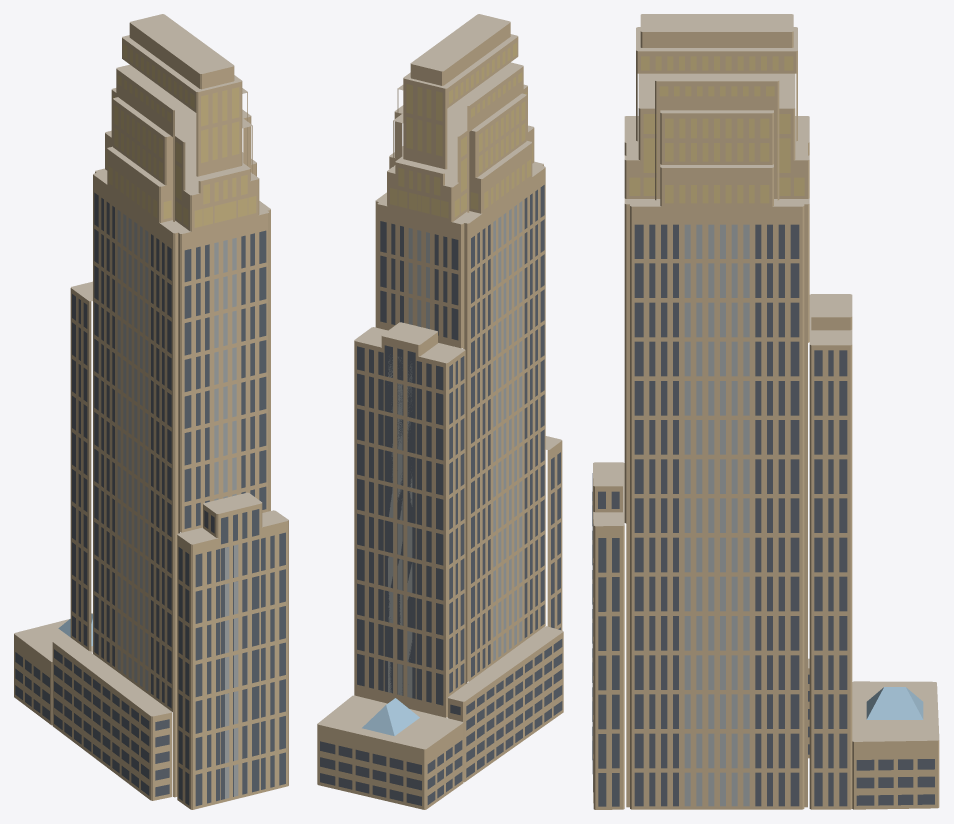
File: msp-wells-fargo-center.glb
The picture shows the model from 3 angles, left to right: view 1: azimuth 30°, elevation 25°; view 2: azimuth 150°, elevation 25°; view 3: azimuth 270°, elevation 25°; orthographic projection. The views are drawn at different scales.
Parts seen in each view (by area): view 1: Wells Fargo Center; view 2: Wells Fargo Center; view 3: Wells Fargo Center.
Part boxes in pixels (x1,y1,x2,y2): Wells Fargo Center: (14, 14, 288, 809); Wells Fargo Center: (317, 14, 563, 809); Wells Fargo Center: (592, 14, 939, 809).
Bounding box in the file's own units: 41.45 × 236 × 97.57.
